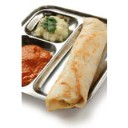dosa: (51, 11, 102, 109)
